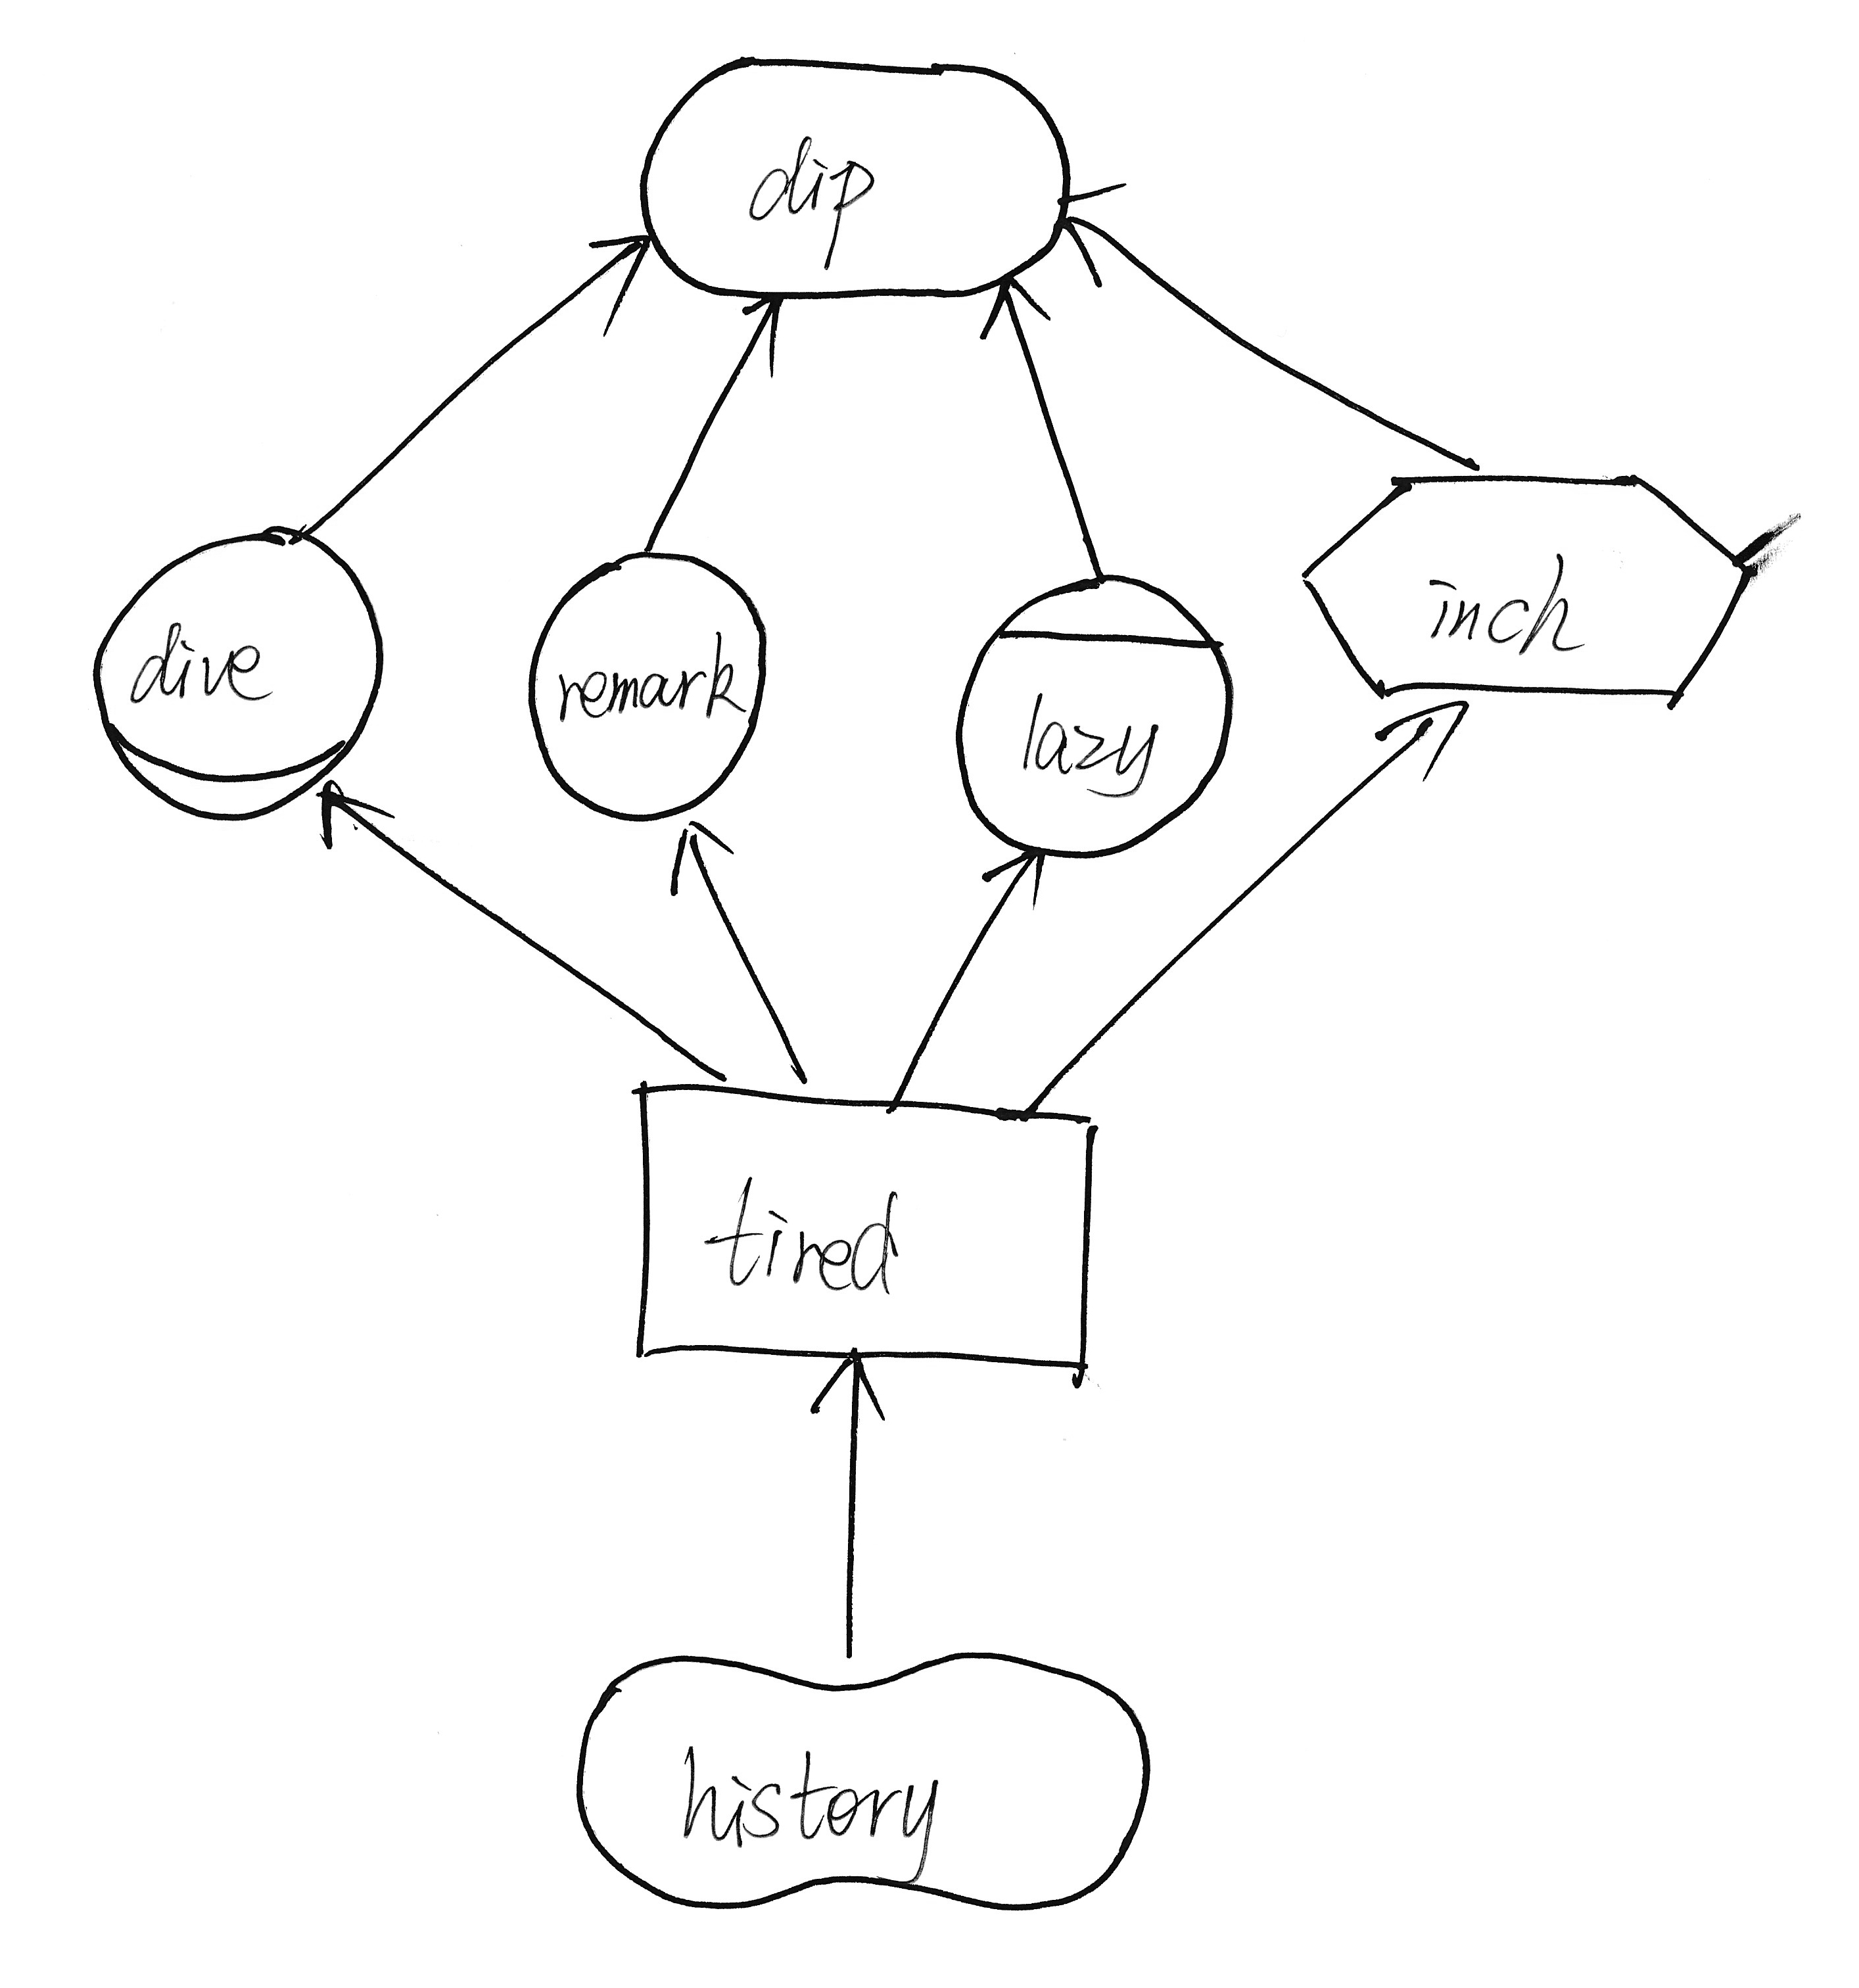actor: (510, 536, 783, 837)
agent: (938, 554, 1251, 872)
arrow: (564, 218, 669, 363), (1358, 683, 1480, 798), (1057, 164, 1139, 300), (800, 1340, 905, 1438), (961, 837, 1076, 924), (299, 769, 405, 863), (971, 264, 1062, 370), (660, 811, 751, 914), (722, 288, 805, 386)
goal: (624, 40, 1088, 325)
quality: (557, 1628, 1172, 1925)
resource: (608, 1062, 1125, 1399)
role: (56, 503, 409, 839)
task: (1275, 449, 1782, 727)
